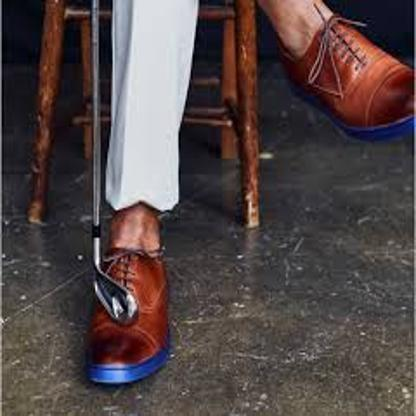not trash: (275, 3, 416, 137), (92, 227, 172, 385)
